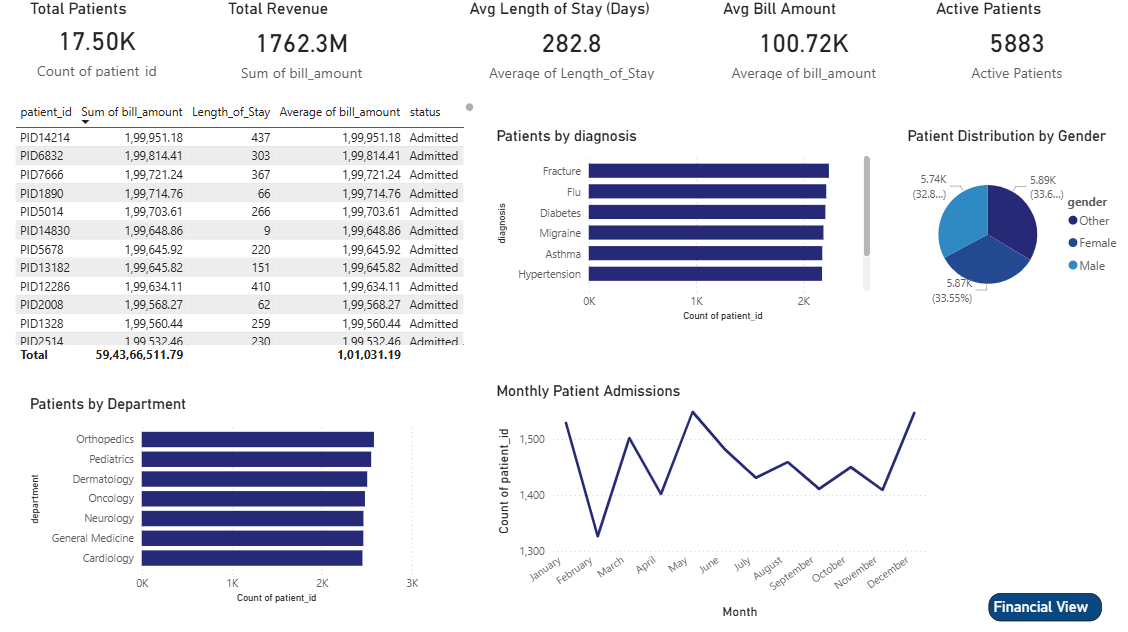

Layout of this report page (visuals, bound fields, positions):
{"tool":"powerbi","page":{"name":"Page 1","canvas":[1280,720],"ordinal":0},"visuals":[{"type":"tableEx","fields":{"Values":["healthcare_data.patient_id","Sum(healthcare_data.bill_amount)","healthcare_data.Length_of_Stay","Avg(healthcare_data.bill_amount)","healthcare_data.status"]},"box":[16,112,528,304],"z":0},{"type":"barChart","title":"Patients by Department","fields":{"Category":["healthcare_data.department"],"Y":["CountNonNull(healthcare_data.patient_id)"]},"box":[32,448,448,240],"z":1000},{"type":"barChart","title":"Patients by diagnosis","fields":{"Category":["healthcare_data.diagnosis"],"Y":["CountNonNull(healthcare_data.patient_id)"]},"box":[560,144,432,224],"z":2000},{"type":"lineChart","title":"Monthly Patient Admissions","fields":{"Category":["healthcare_data.admission_date.Variation.Date Hierarchy.Month"],"Y":["CountNonNull(healthcare_data.patient_id)"]},"box":[560,432,496,272],"z":3000},{"type":"pieChart","title":"Patient Distribution by Gender","fields":{"Category":["healthcare_data.gender"],"Y":["CountNonNull(healthcare_data.patient_id)"]},"box":[1024,144,256,224],"z":4000},{"type":"card","title":"Total Patients","fields":{"Values":["CountNonNull(healthcare_data.patient_id)"]},"box":[31.5,0,160.7,92.8],"z":5000},{"type":"card","title":"Total Revenue","fields":{"Values":["Sum(healthcare_data.bill_amount)"]},"box":[256,0,176,96],"z":6000},{"type":"card","title":"Avg Length of Stay (Days)","fields":{"Values":["Avg(healthcare_data.Length_of_Stay)"]},"box":[528,0,240,96],"z":7000},{"type":"card","title":"Avg Bill Amount","fields":{"Values":["Avg(healthcare_data.bill_amount)"]},"box":[816,0,192,96],"z":8000},{"type":"card","title":"Active Patients","fields":{"Values":["healthcare_data.Active Patients"]},"box":[1056,0,192,96],"z":9000},{"type":"actionButton","title":"Financial View","box":[1120,672,128,32],"z":11000}]}

Visuals, with their boxes in screenshot pixels (x1, y1, x2, y2), scaled from the page's 1280x720 canvas onto the 1128x632 screenshot:
tableEx - healthcare_data.patient_id x Sum(healthcare_data.bill_amount): {"x1": 14, "y1": 98, "x2": 479, "y2": 365}
"Patients by Department" barChart: {"x1": 28, "y1": 393, "x2": 423, "y2": 604}
"Patients by diagnosis" barChart: {"x1": 494, "y1": 126, "x2": 874, "y2": 323}
"Monthly Patient Admissions" lineChart: {"x1": 494, "y1": 379, "x2": 931, "y2": 618}
"Patient Distribution by Gender" pieChart: {"x1": 902, "y1": 126, "x2": 1127, "y2": 323}
"Total Patients" card: {"x1": 28, "y1": 0, "x2": 169, "y2": 81}
"Total Revenue" card: {"x1": 226, "y1": 0, "x2": 381, "y2": 84}
"Avg Length of Stay (Days)" card: {"x1": 465, "y1": 0, "x2": 677, "y2": 84}
"Avg Bill Amount" card: {"x1": 719, "y1": 0, "x2": 888, "y2": 84}
"Active Patients" card: {"x1": 931, "y1": 0, "x2": 1100, "y2": 84}
"Financial View" actionButton: {"x1": 987, "y1": 590, "x2": 1100, "y2": 618}
